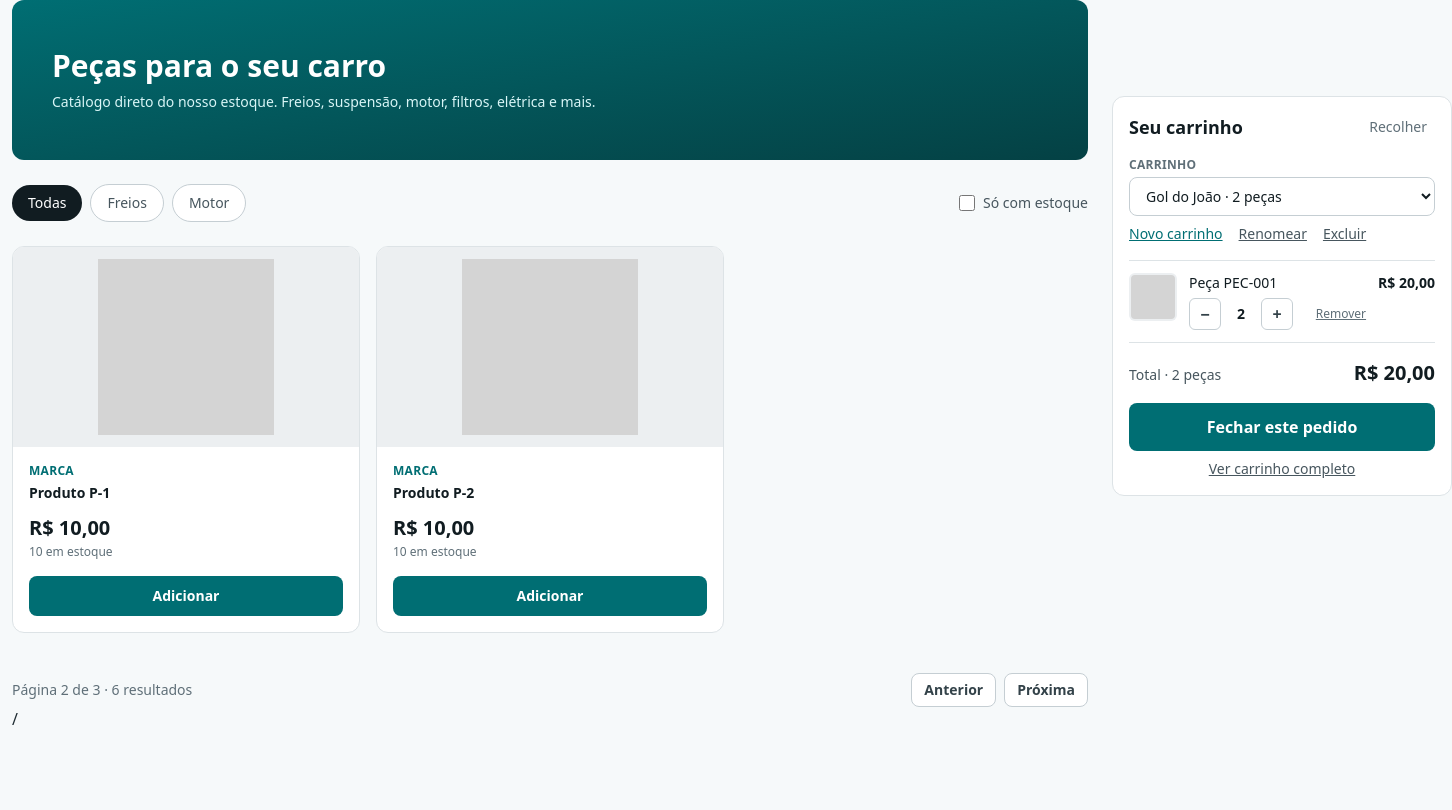
Test case: vitrine com o carrinho ao lado › erro ao adicionar (sem estoque) aparece na vitrine
Click the button "Adicionar" below "Produto P-1" at point(186, 596), box [29,576,343,616]
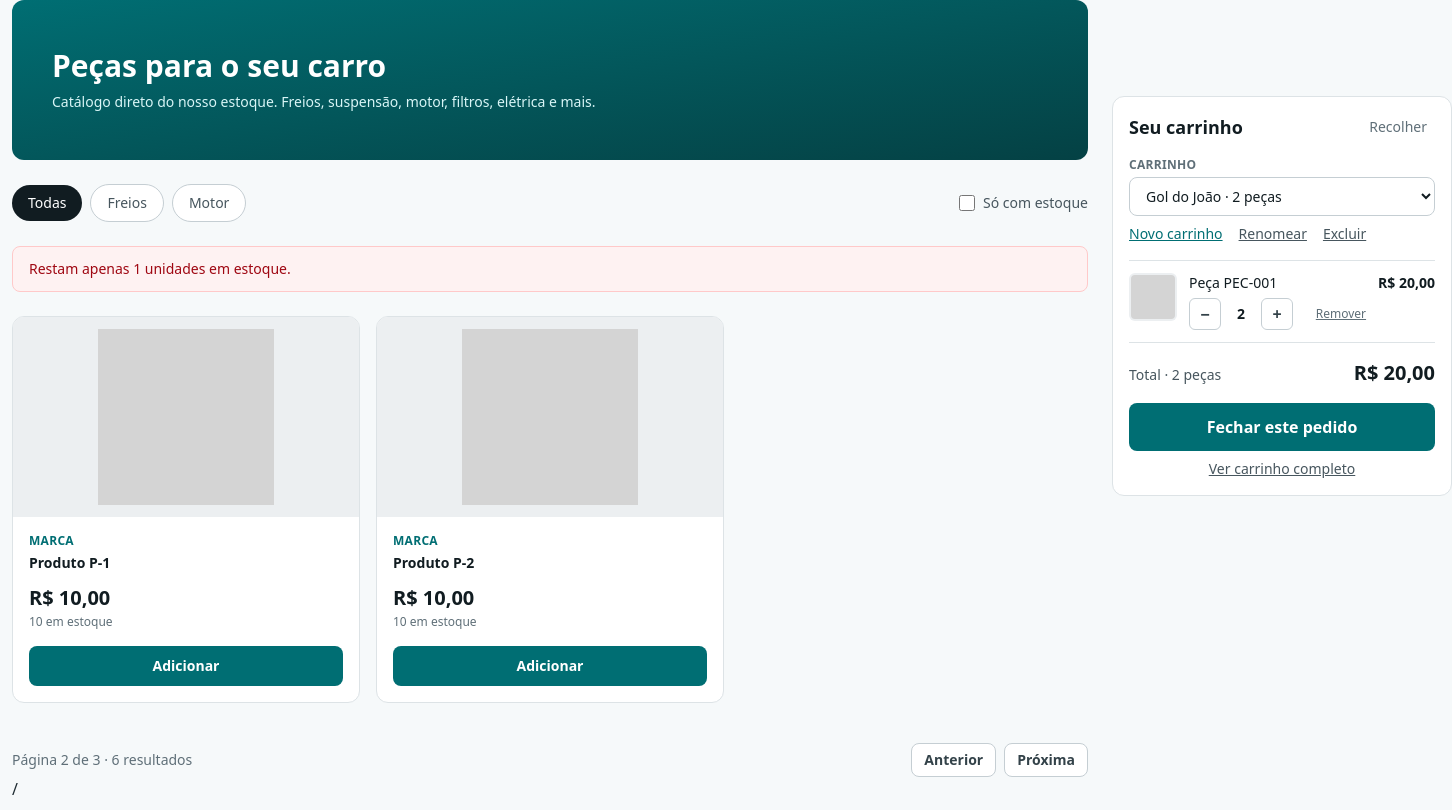
Expected: the text "Restam apenas 1 unidades em estoque." is shown, [12,246,1088,292]
